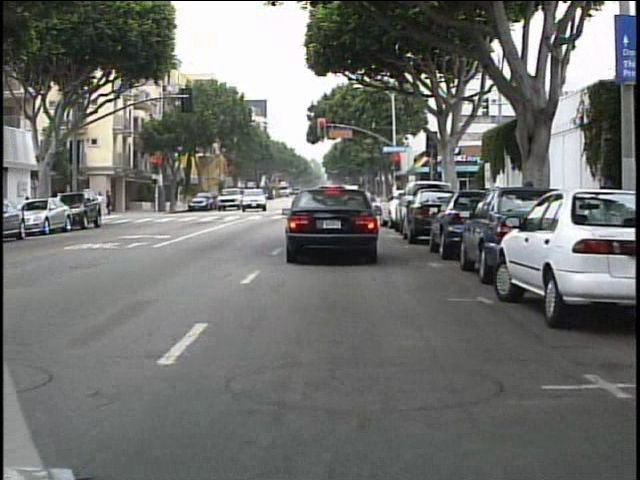person: (106, 188, 121, 218), (96, 188, 106, 204)
